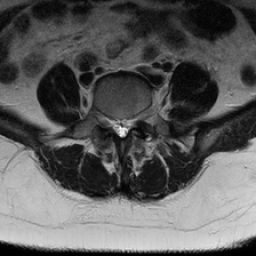CCS_normal: (117, 110, 124, 144)
LFS_normal: (131, 106, 139, 134)
LLS_normal: (124, 110, 131, 139)
RFS_normal: (102, 107, 110, 136)
RLS_normal: (110, 110, 117, 137)
